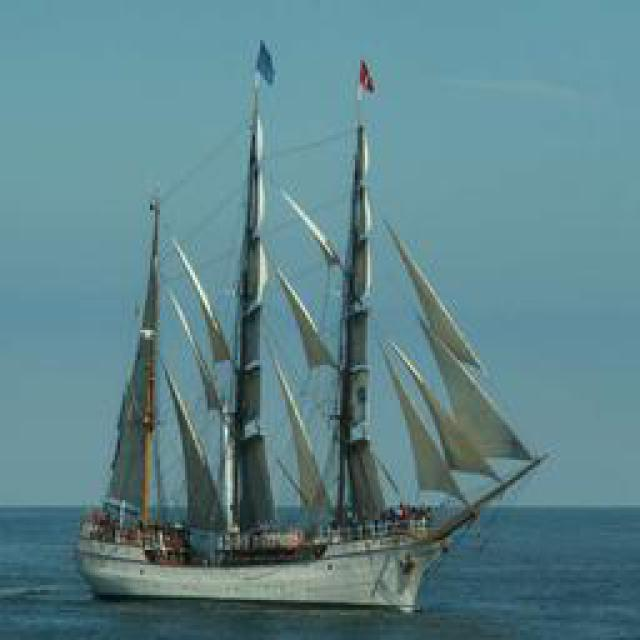Ship: (74, 33, 559, 608)
